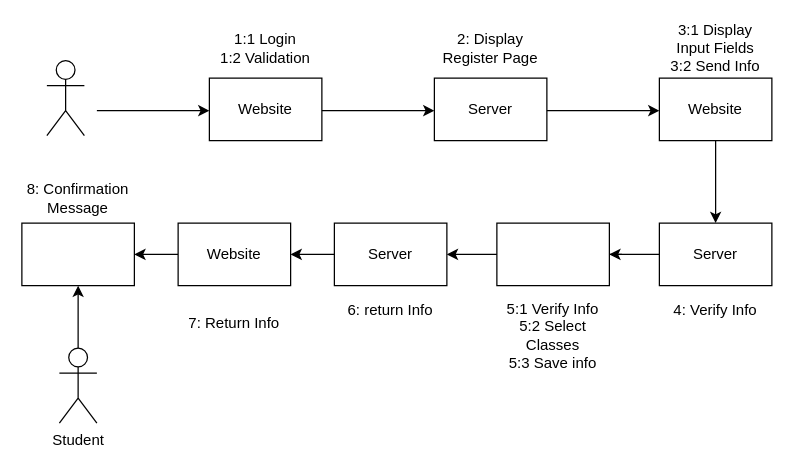
Image size: 794x471. Some labels were removed from this diagram. The centre of each missing label's shape, as x and y in pixels:
Class Records: (x=552, y=254)
Staff: (x=65, y=97)
User: (x=77, y=254)
